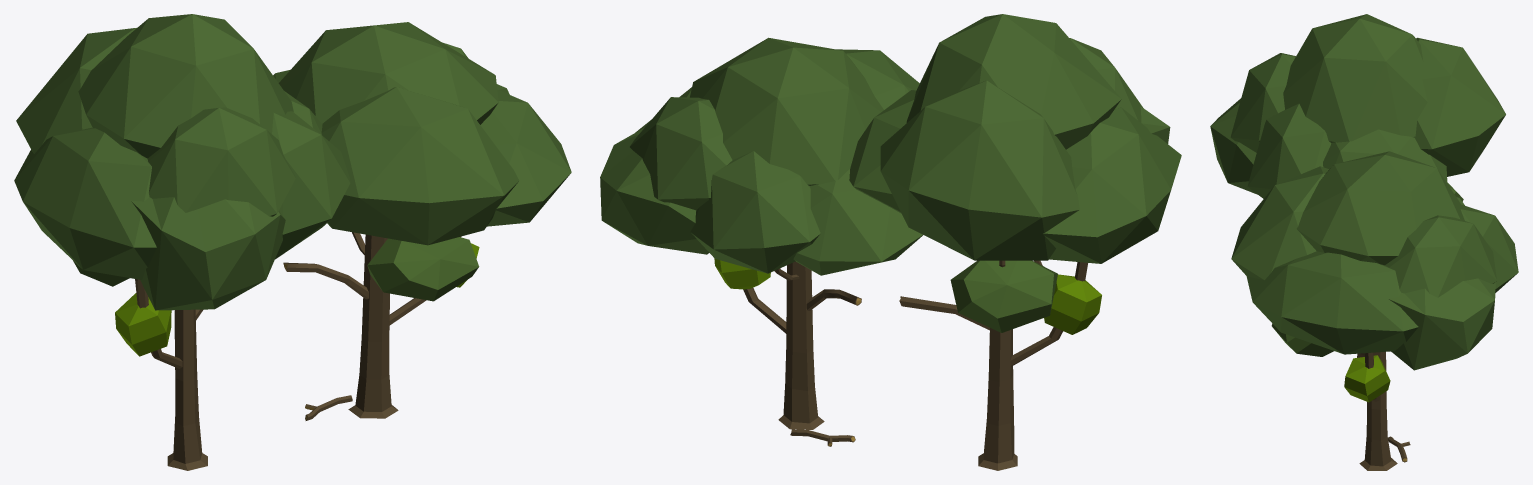
Rendered from CaterpillarTree.fbx.
The picture shows the model from 3 angles, left to right: view 1: azimuth 30°, elevation 25°; view 2: azimuth 150°, elevation 25°; view 3: azimuth 270°, elevation 25°; orthographic projection. The views are drawn at different scales.
Parts seen in each view (by area): view 1: pCylinder14, pCylinder13; view 2: pCylinder14, pCylinder13; view 3: pCylinder13, pCylinder14.
Part boxes in pixels (box(x1,y1,x2,y2)): pCylinder14: box(14, 14, 350, 470); pCylinder13: box(273, 22, 571, 418); pCylinder14: box(849, 14, 1181, 470); pCylinder13: box(600, 37, 922, 429); pCylinder13: box(1231, 151, 1518, 470); pCylinder14: box(1210, 14, 1505, 357).
Size of the model in its own units: 30.3 by 25.1 by 18.97.
